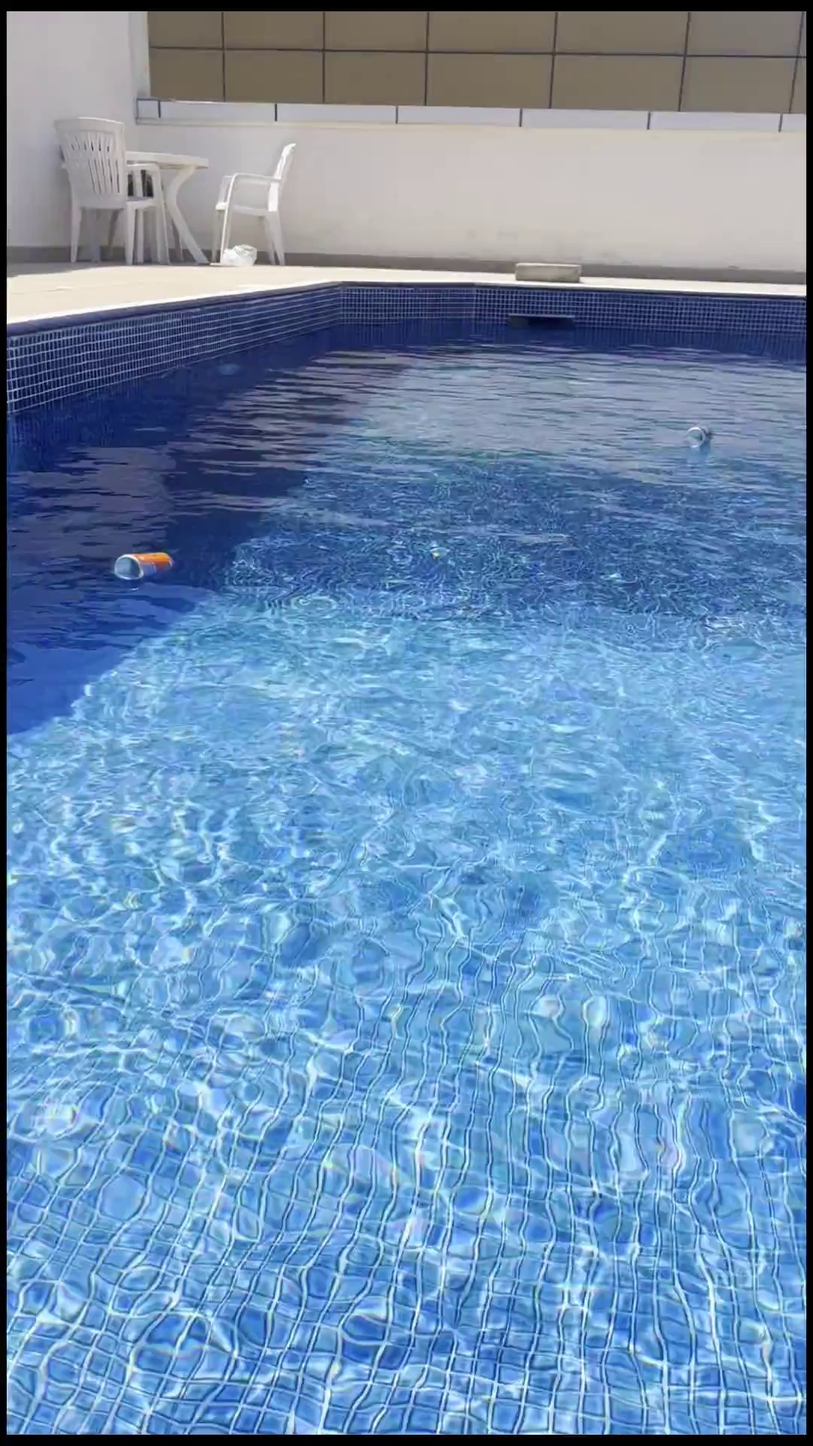debris: (107, 536, 171, 596), (684, 415, 708, 452)
